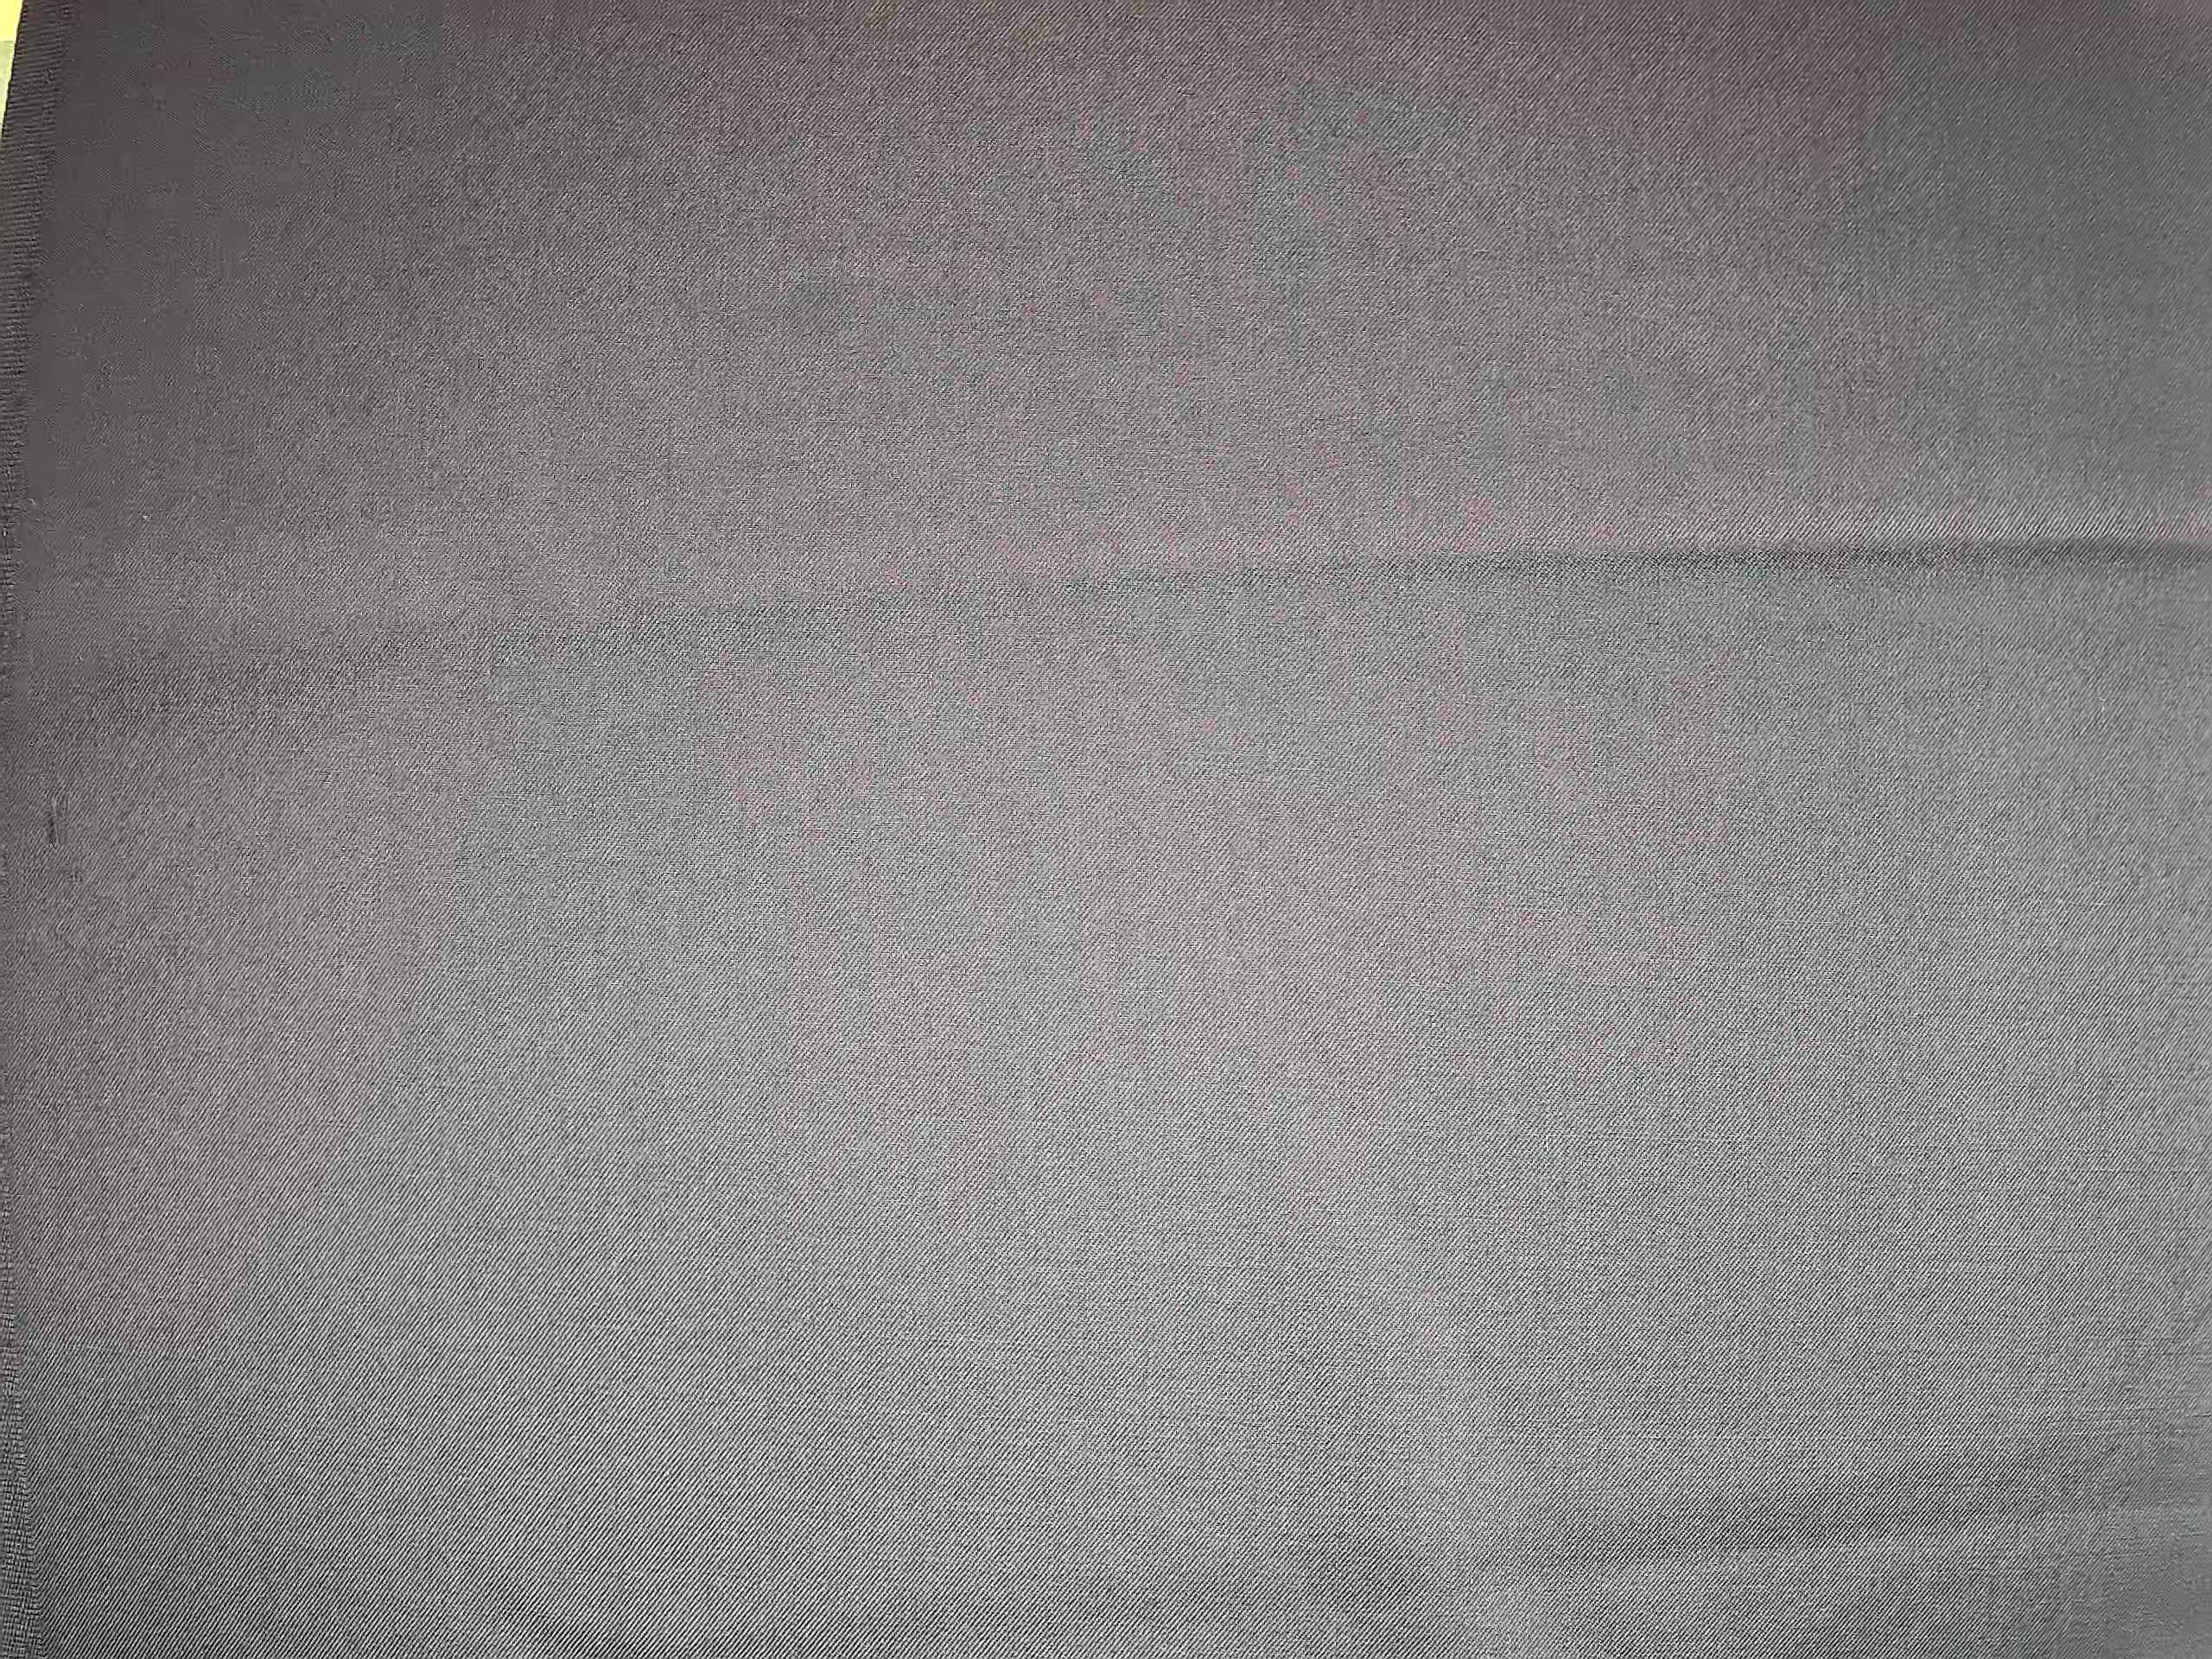rubbing-hole: (31, 769, 82, 868)
